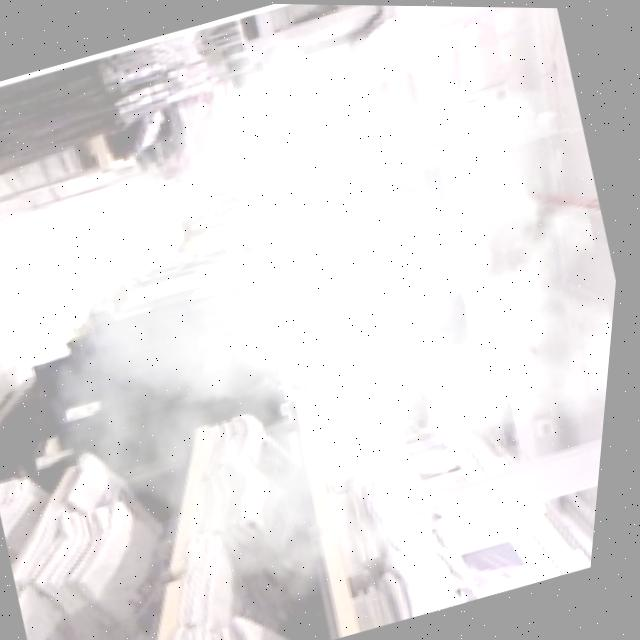Smoke: (0, 4, 618, 640)
